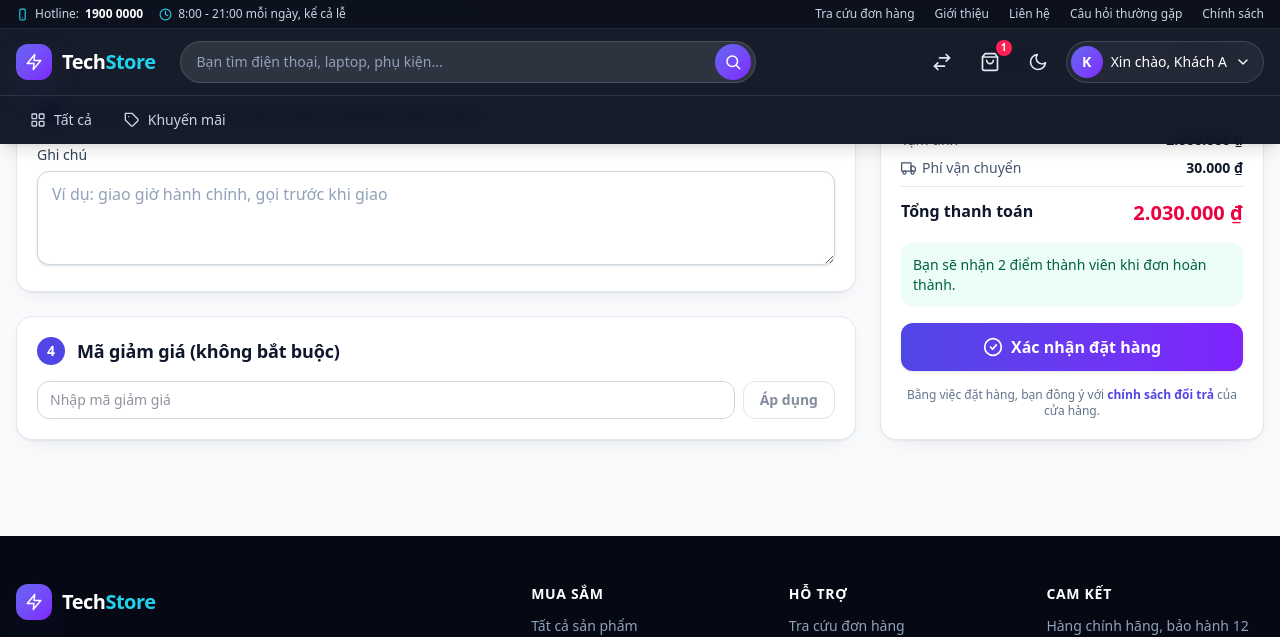
Test case: Ô nhập mã giảm giá ở trang đặt hàng (US-25) › mã không tồn tại báo rõ; xóa mã để nhập lại
(page scrolled)
Type "KHONGCO" into the field labelled "mã giảm giá".
click(386, 400); type("KHONGCO")  # box [37,381,735,419]
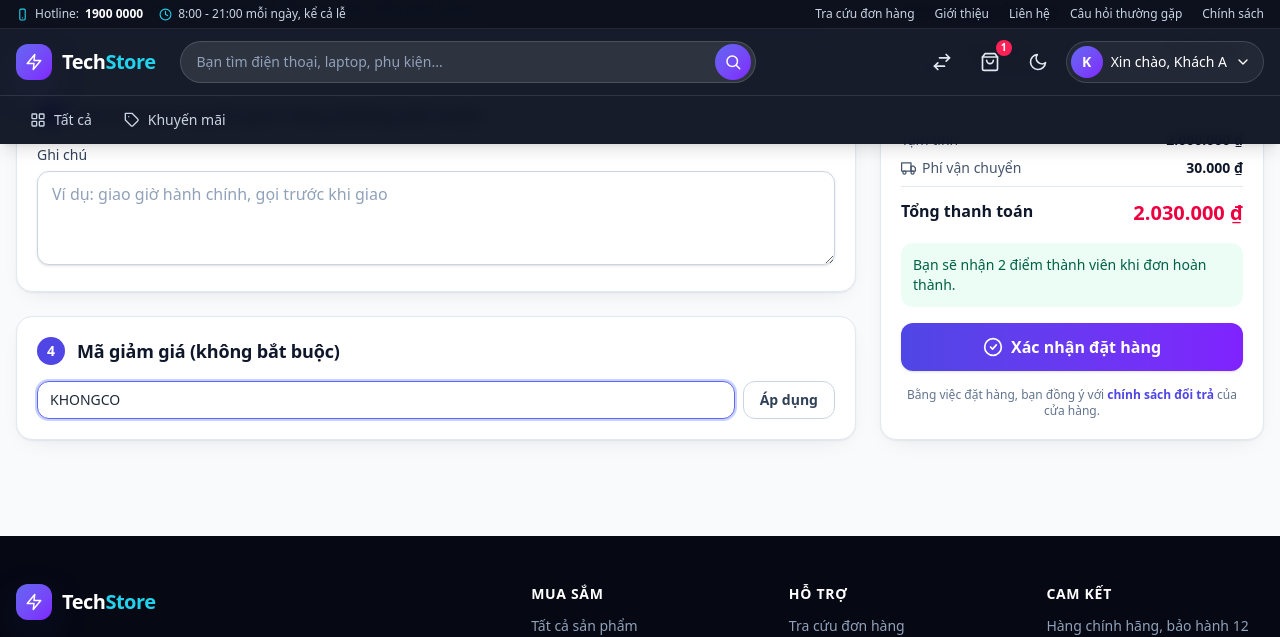
Click the button "Áp dụng".
click(789, 400)  # box [743,381,835,419]
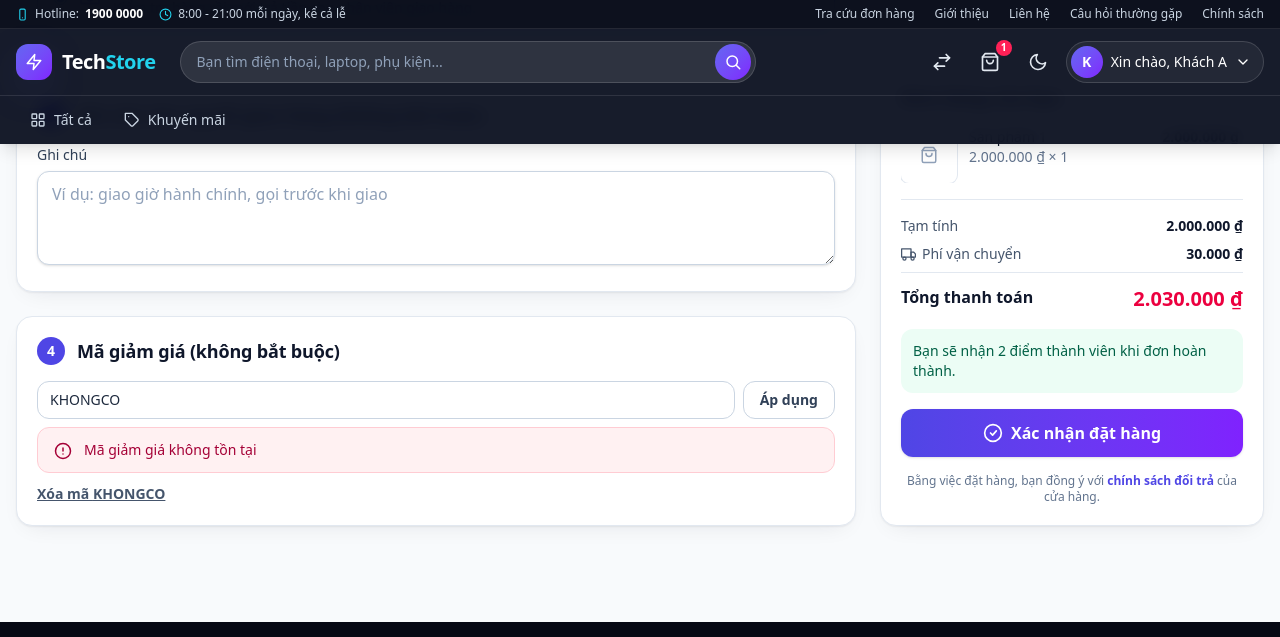
Expected: the text "Mã giảm giá không tồn tại" is shown, [84,440,257,460]
Click the button "Xóa mã KHONGCO".
click(101, 494)  # box [37,484,165,504]
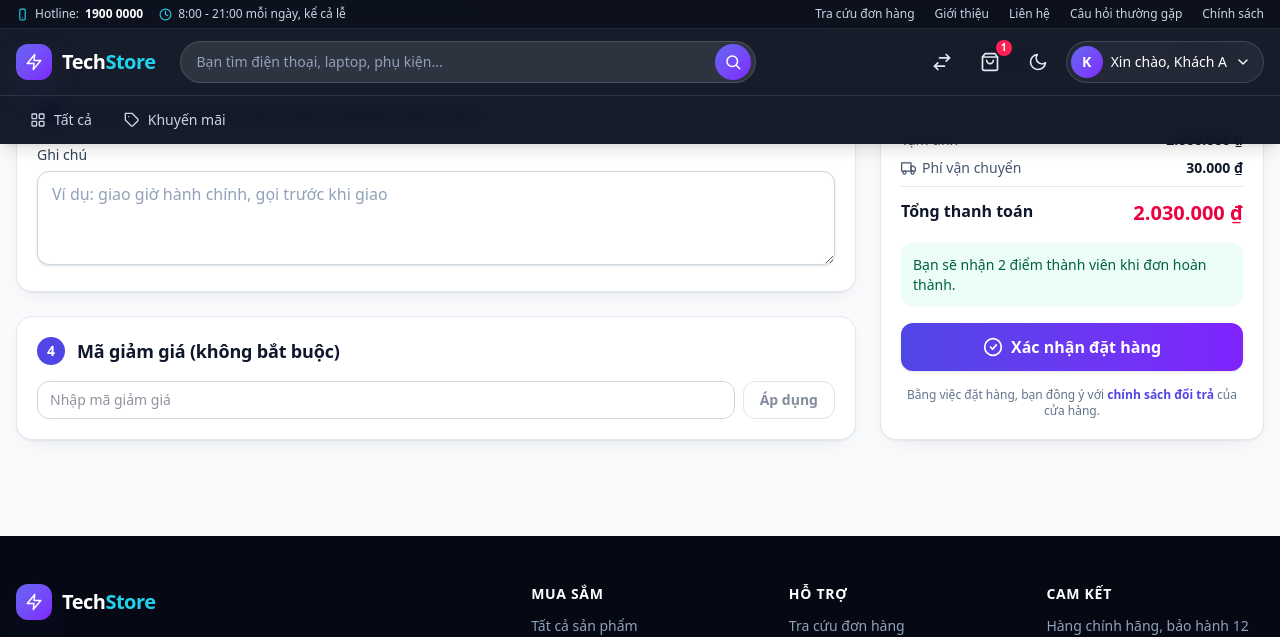
Expected: the text "Mã giảm giá không tồn tại" is gone
Expected: the field labelled "mã giảm giá" is empty, [37,381,735,419]
